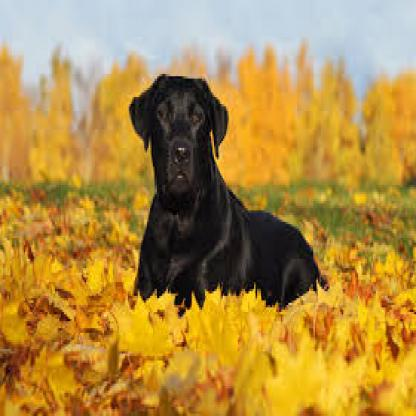Labarador Retriever: (126, 70, 328, 308)
